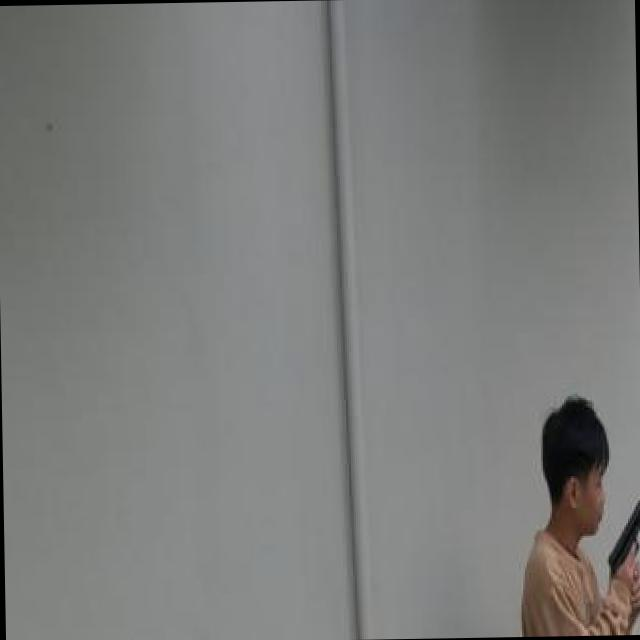Guns: (597, 494, 640, 581)
